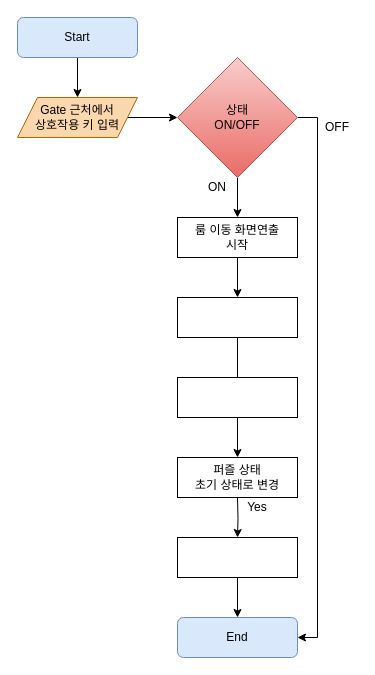
The diagram is 375 pixels wide and 675 high, and some of its shapes have lost their labels. The centre of each missing label's shape, as x and y in pixels:
룸 이동 화면연출 끝: (x=237, y=557)
캐릭터를 다른 룸의 특정 좌표로 이동: (x=237, y=317)
퍼즐 위치 초기좌표로 이동: (x=237, y=397)
